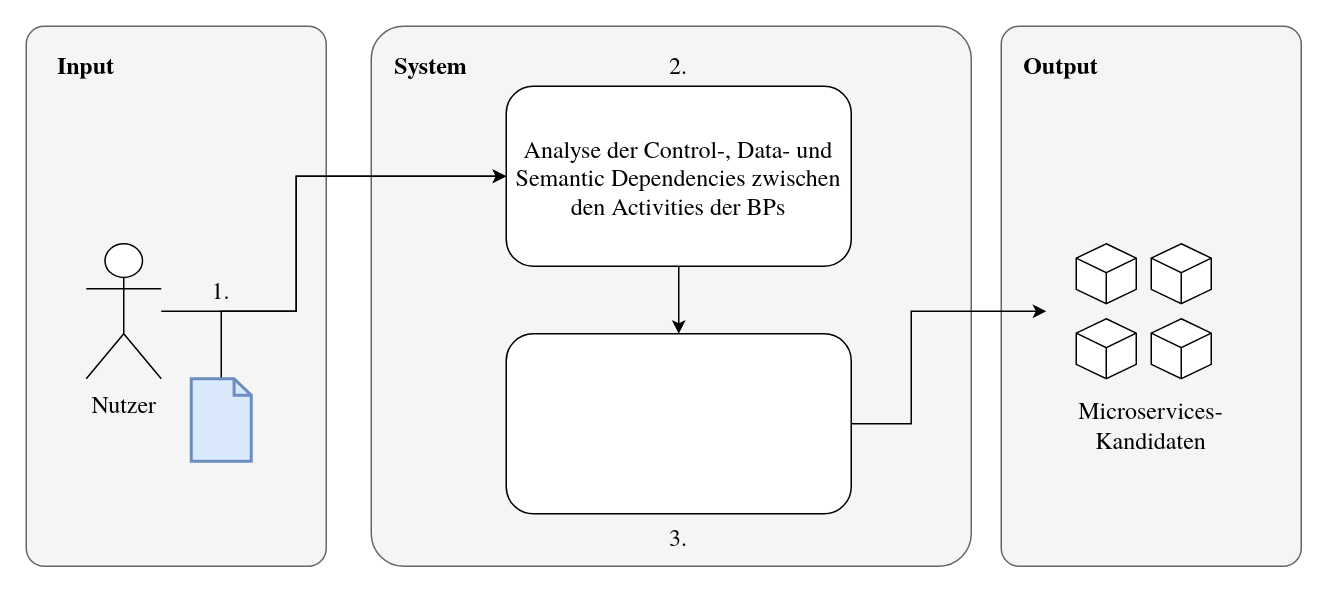
This 1328x593 diagram has some shape labels left out. Each missing label, with the centre of its shape:
"BPMN" goes at (x=220, y=419).
"Clustering-Algorithmus (basierend auf ermittelten Dependencies)" goes at (x=678, y=423).
